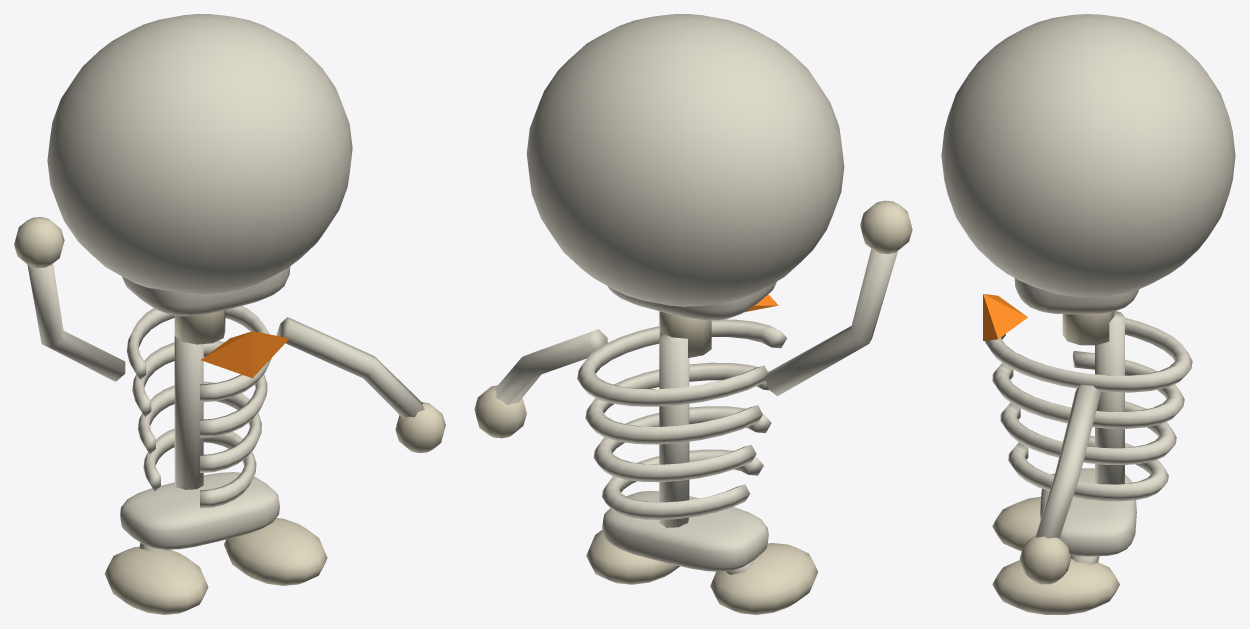
Rendered from H07_Bonejangles.fbx.
3 renders of one model, left to right at view 1: azimuth 30°, elevation 25°; view 2: azimuth 150°, elevation 25°; view 3: azimuth 270°, elevation 25°, orthographic. The views are drawn at different scales.
Visible parts, largest first — view 1: H07_Bonejangles__Bone, H07_Bonejangles__Joint, H07_Bonejangles__Tie; view 2: H07_Bonejangles__Bone, H07_Bonejangles__Joint; view 3: H07_Bonejangles__Bone, H07_Bonejangles__Joint, H07_Bonejangles__Tie.
Part boxes in pixels (x1,y1,x2,y2): H07_Bonejangles__Bone: (27,14,424,550); H07_Bonejangles__Joint: (14,217,445,614); H07_Bonejangles__Tie: (201,331,289,378); H07_Bonejangles__Bone: (495,14,897,574); H07_Bonejangles__Joint: (474,200,912,614); H07_Bonejangles__Bone: (941,14,1235,564); H07_Bonejangles__Joint: (992,311,1119,614); H07_Bonejangles__Tie: (983,294,1027,340).
Size of the model in its own units: 2.25 by 2.82 by 1.37.
